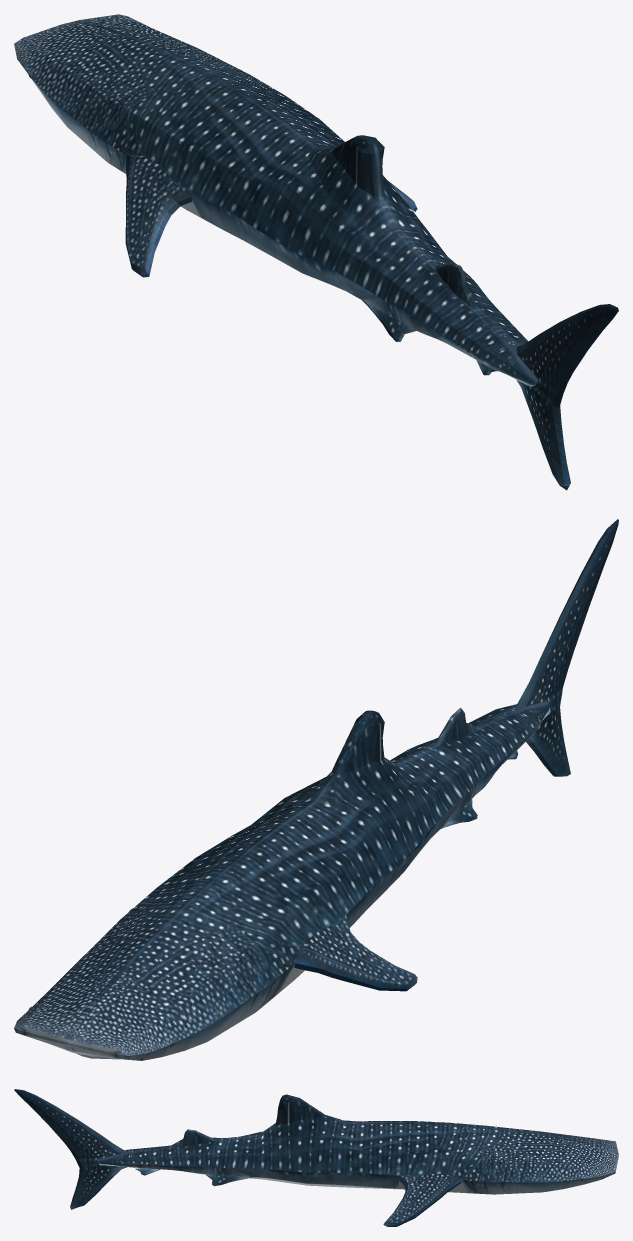
The model's file is rhincodon-typus.glb.
The picture shows the model from 3 angles, top to bottom: view 1: azimuth 30°, elevation 25°; view 2: azimuth 150°, elevation 25°; view 3: azimuth 270°, elevation 25°; orthographic projection. The views are drawn at different scales.
Parts seen in each view (by area): view 1: whaleshark, whaleshark.pectoral.l; view 2: whaleshark, whaleshark.pectoral.l; view 3: whaleshark, whaleshark.pectoral.r.
Part boxes in pixels (left/top/right/bottom): whaleshark: left=14, top=14, right=618, bottom=490; whaleshark.pectoral.l: left=125, top=153, right=192, bottom=277; whaleshark: left=14, top=519, right=618, bottom=1060; whaleshark.pectoral.l: left=294, top=914, right=417, bottom=991; whaleshark: left=14, top=1089, right=618, bottom=1209; whaleshark.pectoral.r: left=383, top=1173, right=462, bottom=1226.
Size of the model in its own units: 28.98 by 22.01 by 99.87.
1 material, 1 textured.
